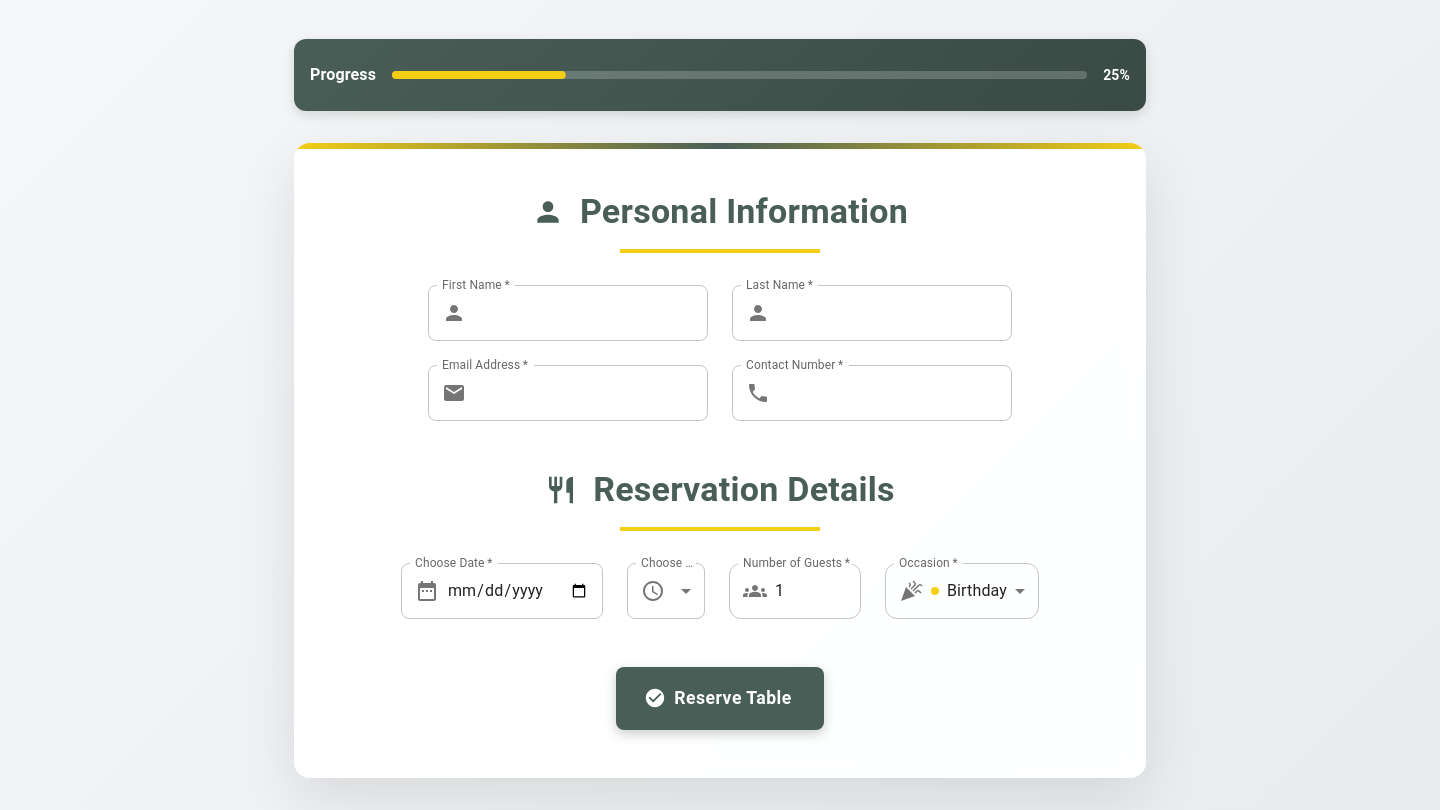
Scenario: BookingForm with Formik validation › shows validation error if date is in the past
(page scrolled)
In the date field labelled "Choose Date *": (525, 591) [447,563,603,619], type "2025-04-01"
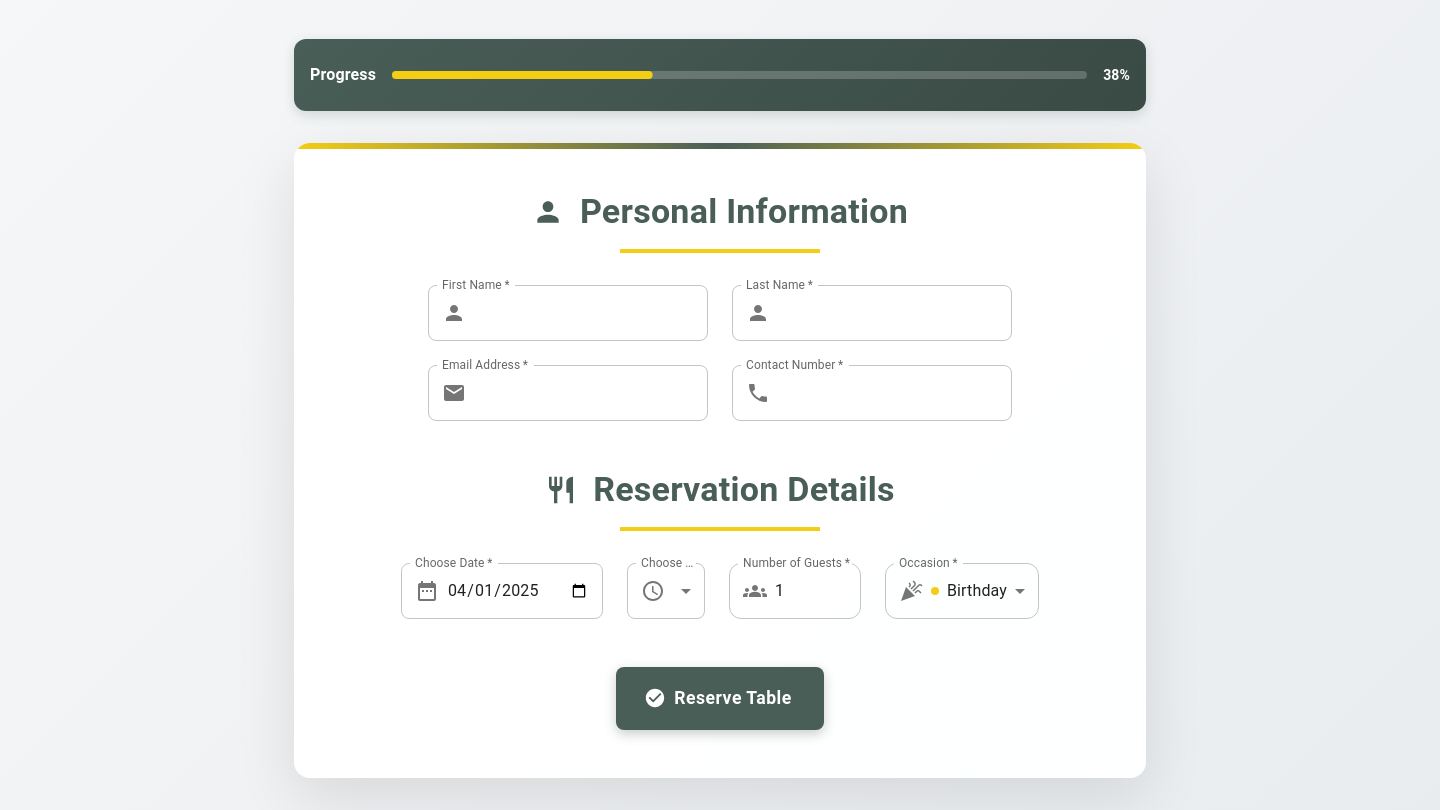
Leave the date field labelled "Choose Date *", box [447,563,603,619]
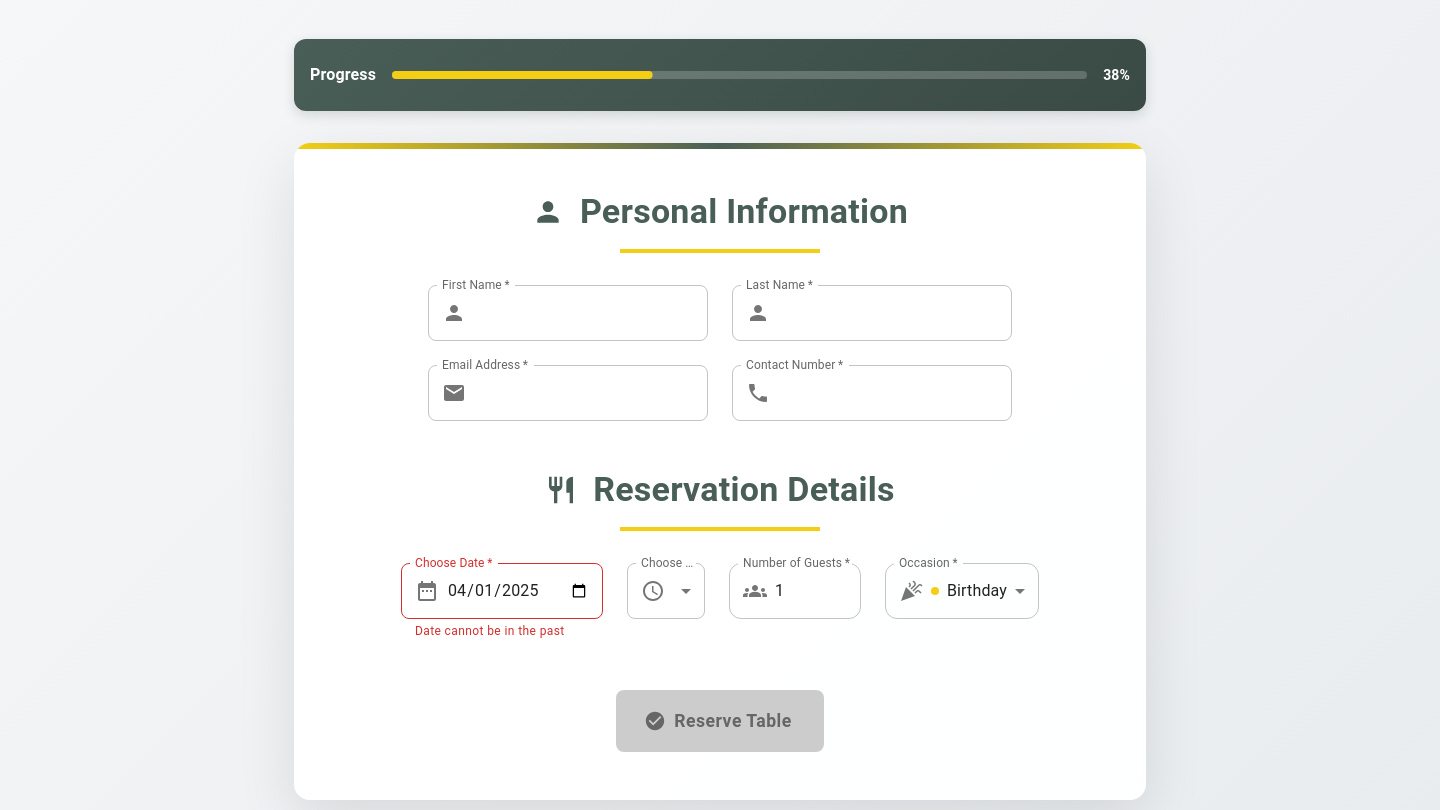
Check: the text "Date cannot be in the past" is shown, box [415,622,589,642]
